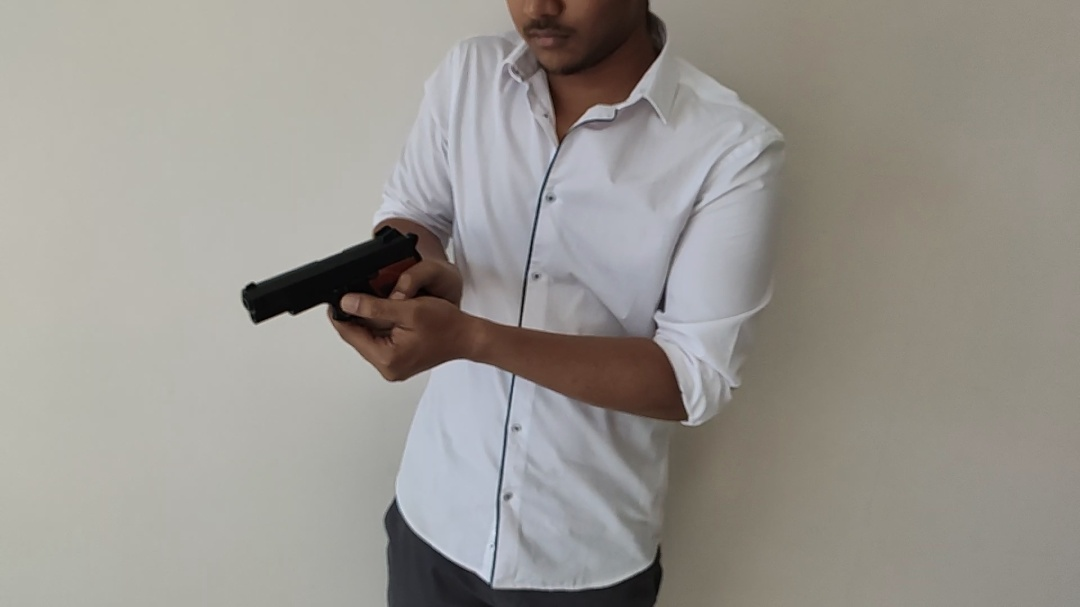gun: (189, 248, 579, 607)
